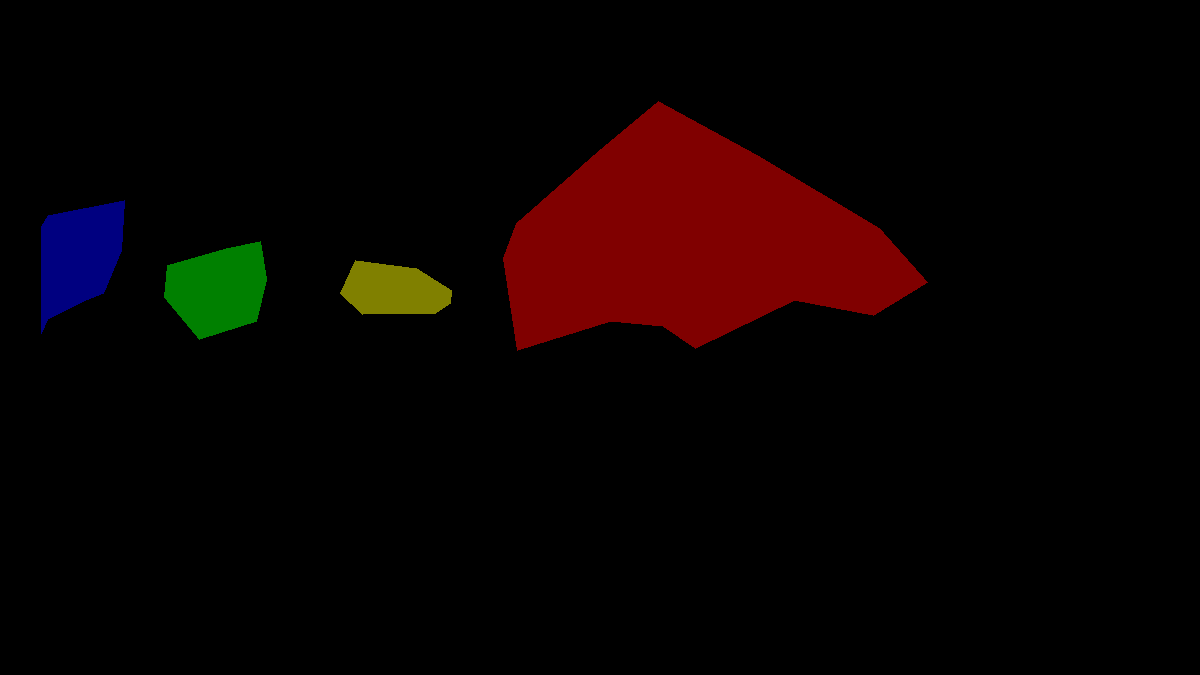fire: (503, 101, 927, 350), (41, 200, 124, 333), (164, 241, 266, 339), (340, 260, 451, 314)
